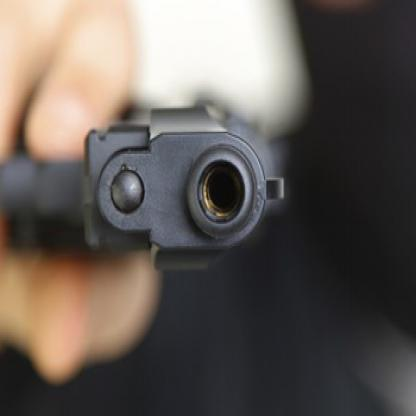gun: (0, 80, 300, 288)
